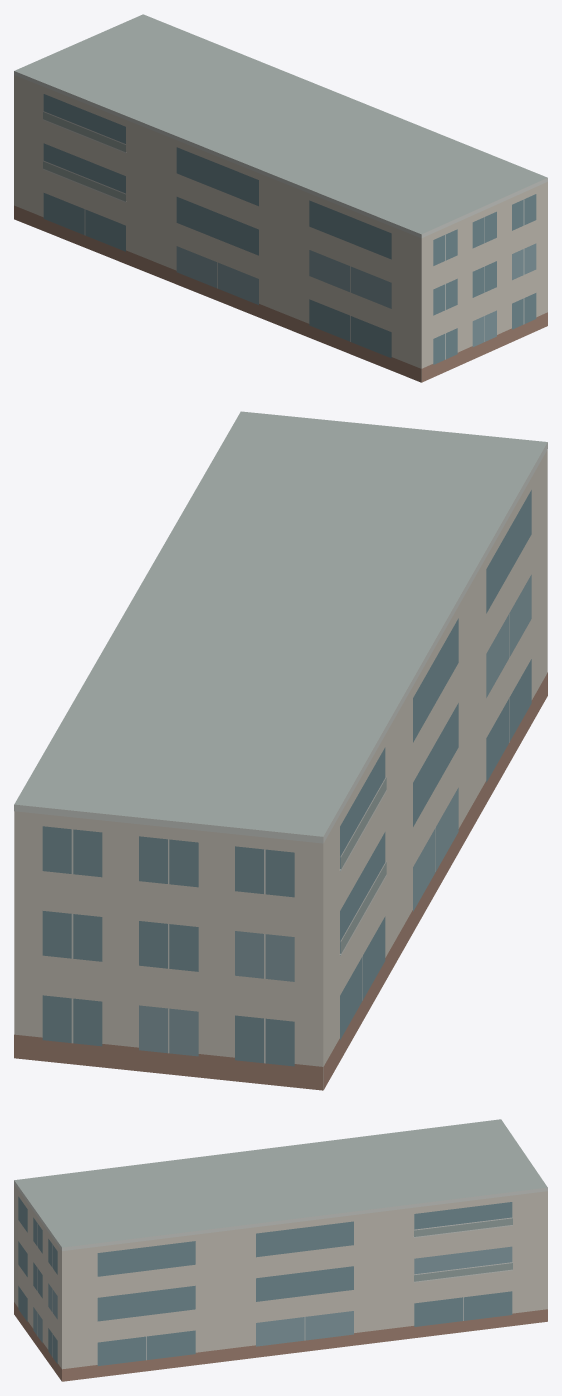
Rendered from survey-upis-32793934.glb.
The picture shows the model from 3 angles, top to bottom: view 1: azimuth 30°, elevation 25°; view 2: azimuth 150°, elevation 25°; view 3: azimuth 270°, elevation 25°; orthographic projection. The views are drawn at different scales.
Visible parts, largest first — view 1: survey-upis-32793934.tmp; view 2: survey-upis-32793934.tmp; view 3: survey-upis-32793934.tmp.
Part boxes in pixels (x1,y1,x2,y2): survey-upis-32793934.tmp: [14, 14, 547, 382]; survey-upis-32793934.tmp: [14, 411, 547, 1090]; survey-upis-32793934.tmp: [14, 1119, 547, 1381].
Size of the model in its own units: 18.8 by 9.15 by 33.02.
